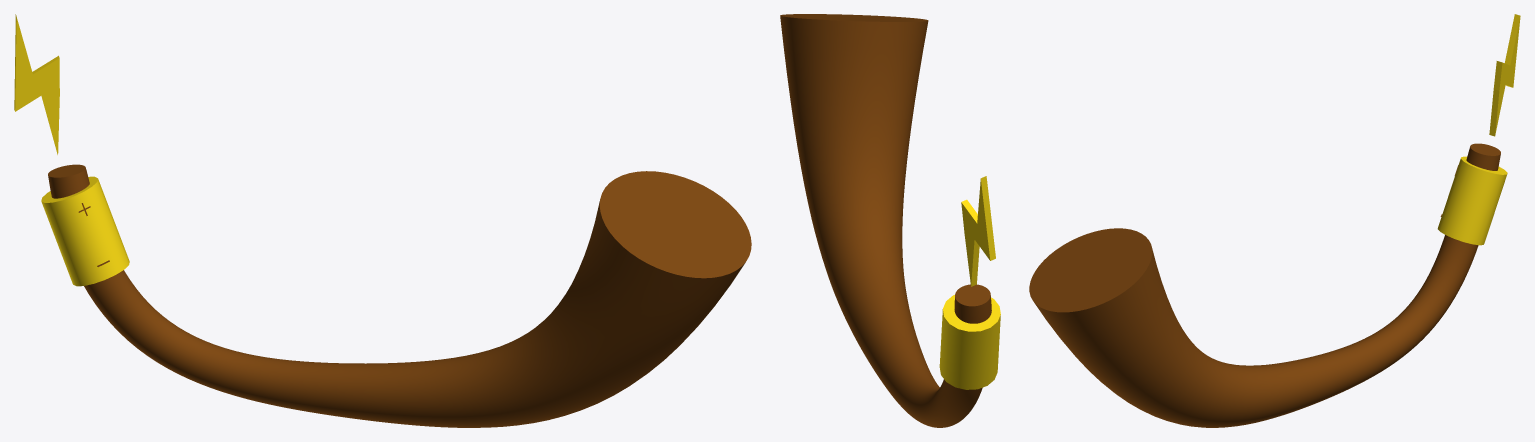
The picture shows the model from 3 angles, left to right: view 1: azimuth 30°, elevation 25°; view 2: azimuth 150°, elevation 25°; view 3: azimuth 270°, elevation 25°; orthographic projection. The views are drawn at different scales.
Visible parts, largest first — view 1: Elec_Back_006; view 2: Elec_Back_006; view 3: Elec_Back_006.
Part boxes in pixels (x1,y1,x2,y2): Elec_Back_006: (14,14,751,427); Elec_Back_006: (780,14,1000,427); Elec_Back_006: (1029,14,1520,427).
Bounding box in the file's own units: 102 × 111 × 74.47.
